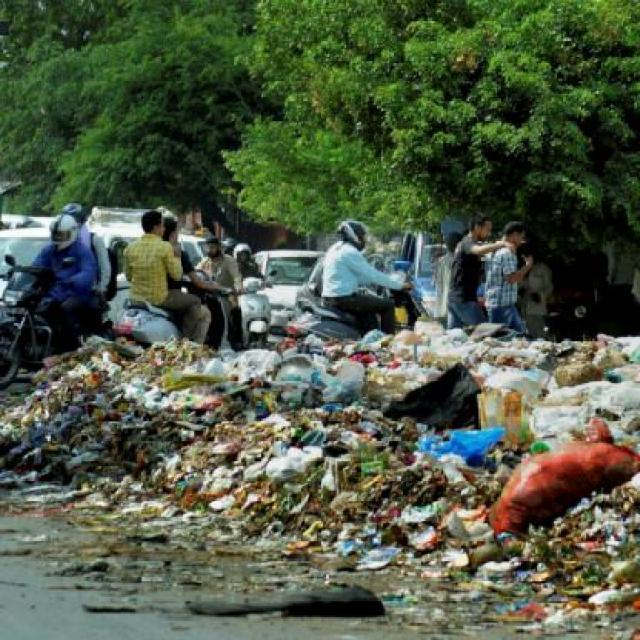garbage: (69, 342, 640, 549)
